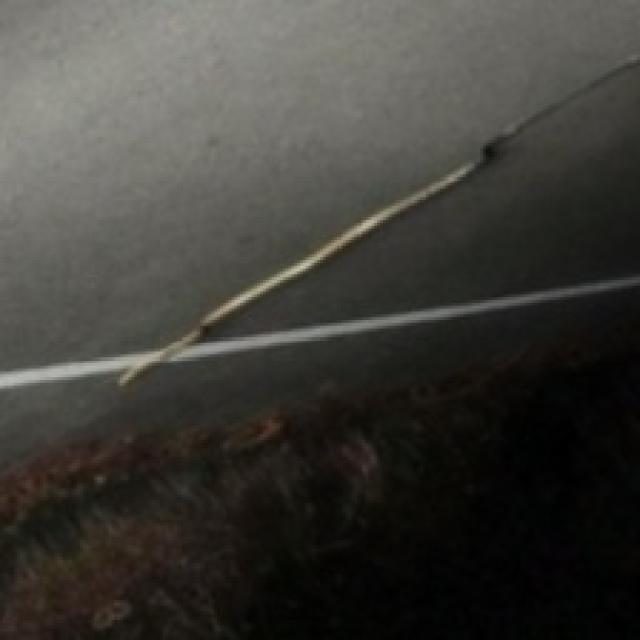king cobra: (0, 0, 637, 369), (0, 289, 637, 637)
